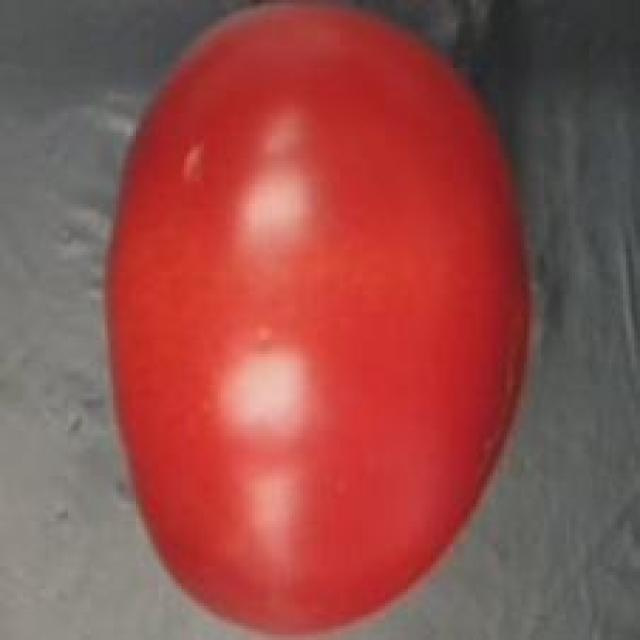ripe tomato: (93, 0, 541, 640)
